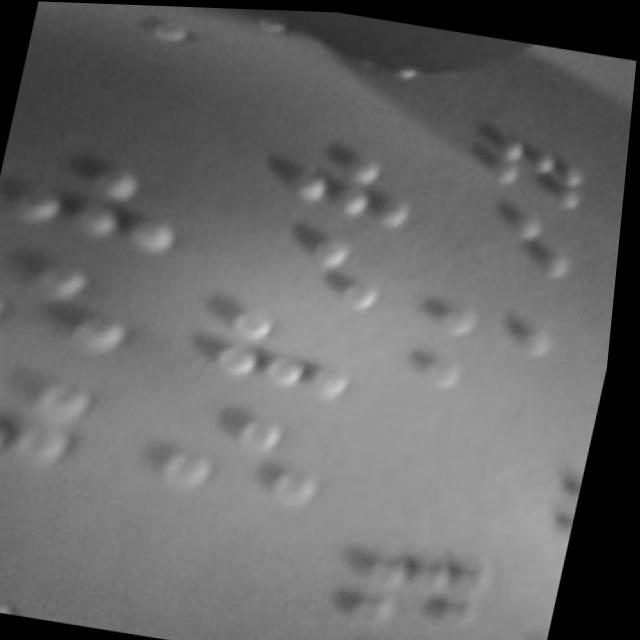braiile: (154, 396, 340, 515), (9, 147, 200, 260), (0, 243, 152, 365), (207, 297, 377, 402), (345, 536, 510, 640), (271, 137, 433, 233), (235, 216, 398, 310), (422, 262, 573, 356), (452, 195, 589, 276), (478, 131, 599, 211)
